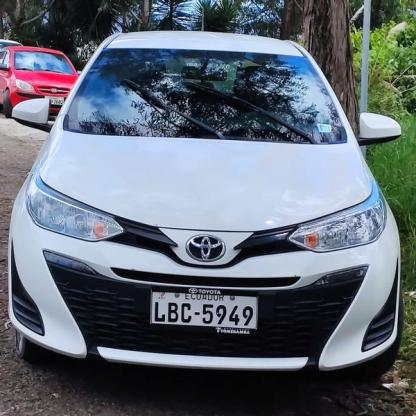Placa: (149, 288, 258, 332)
